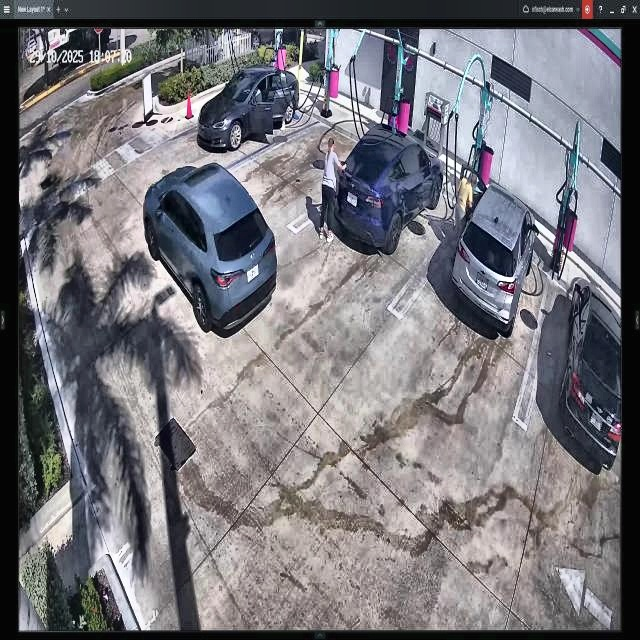Car: (140, 166, 276, 332), (330, 129, 442, 260), (451, 188, 537, 334), (198, 72, 300, 163)
